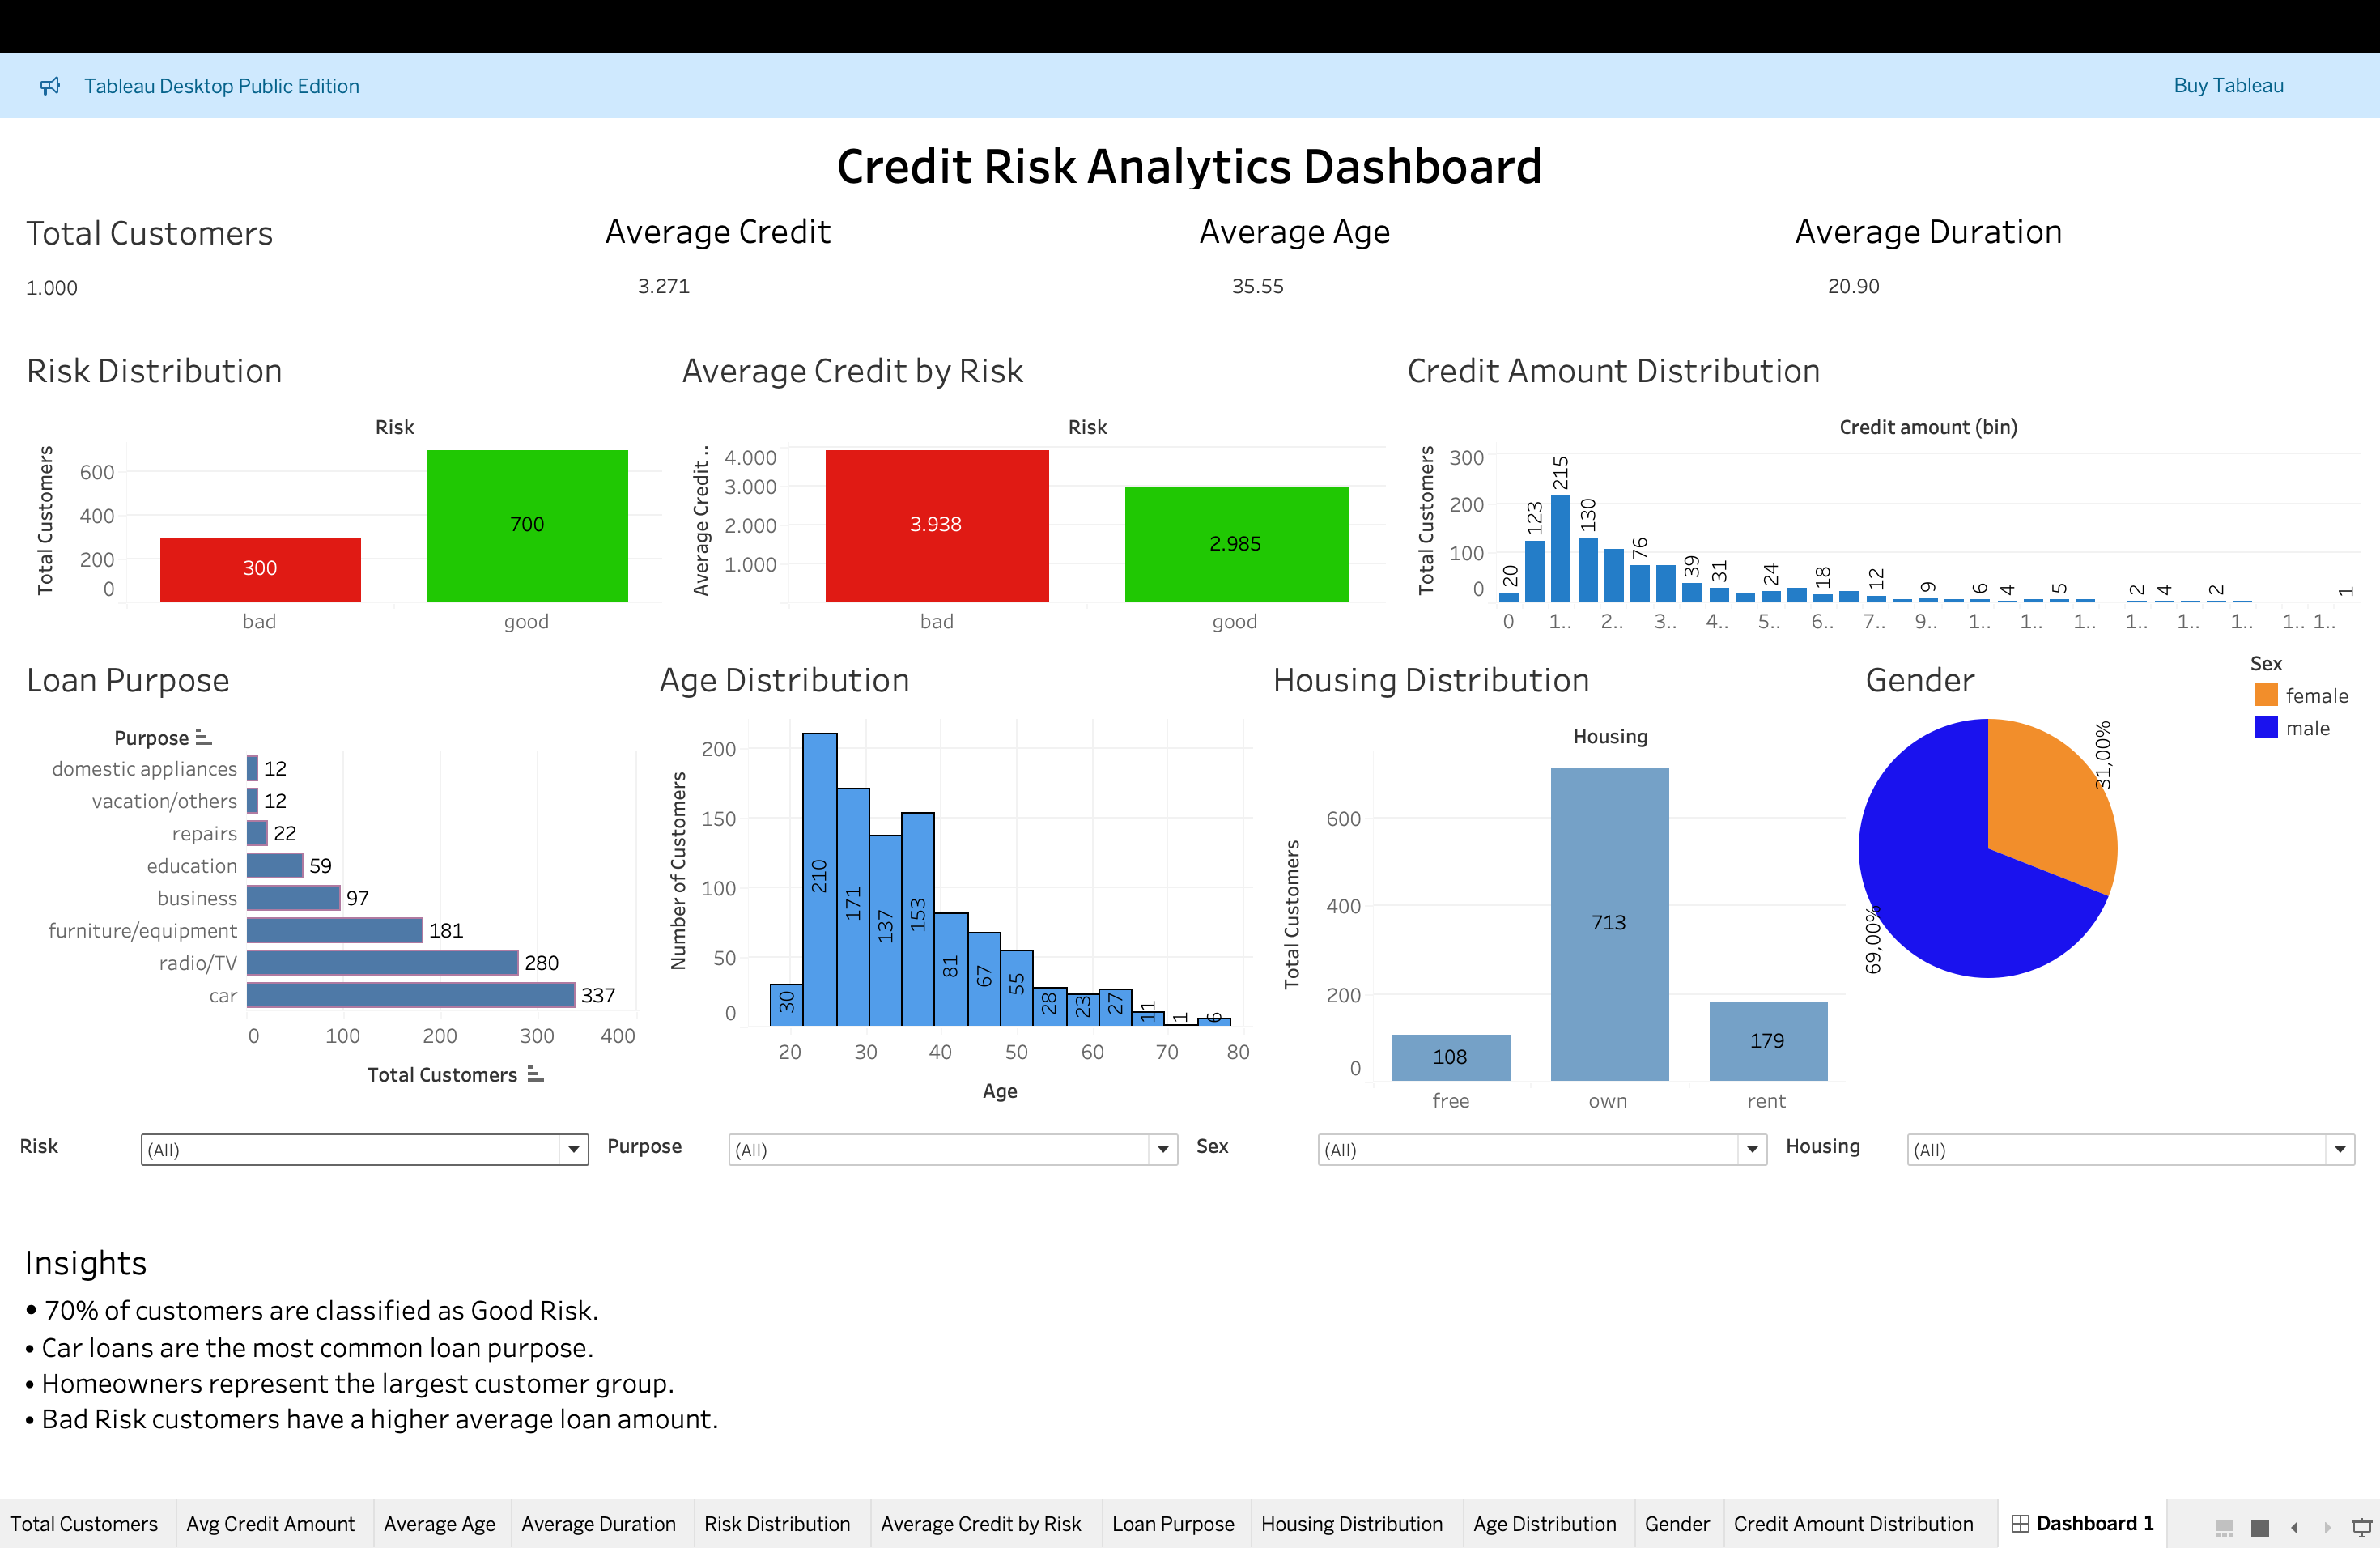

What the dashboard file says about the page in this screenshot:
{"tool":"tableau","page":{"name":"Dashboard 1","canvas":[1000,1000],"units":"permille","ordinal":0},"visuals":[{"type":"text","box":[6.4,10.1,987.3,44.9]},{"type":"text","box":[6.4,55,228.9,34.1]},{"type":"text","box":[235.2,55,243.2,34.1]},{"type":"text","box":[478.5,55,240.9,34.1]},{"type":"text","box":[719.4,55,274.3,34.1]},{"type":"worksheet","title":"Average Age","mark":"Automatic","box":[235.2,89,243.2,65.2]},{"type":"worksheet","title":"Avg Credit Amount","mark":"Automatic","box":[478.5,89,240.9,65.2]},{"type":"worksheet","title":"Average Duration","mark":"Automatic","box":[719.4,89,274.3,65.2]},{"type":"worksheet","title":"Total Customers","mark":"Automatic","box":[6.4,89.1,228.9,65.1]},{"type":"worksheet","title":"Risk Distribution","mark":"Automatic","rows":["Calculation_0240546996387840"],"cols":["Risk"],"box":[6.4,154.2,228.9,269.3]},{"type":"worksheet","title":"Average Credit by Risk","mark":"Automatic","rows":["Credit amount"],"cols":["Risk"],"box":[235.2,154.2,264.7,269.3]},{"type":"worksheet","title":"Credit Amount Distribution","mark":"Automatic","rows":["Calculation_0240546996387840"],"cols":["Credit amount (bin)"],"box":[500,154.2,493.7,269.3]},{"type":"worksheet","title":"Loan Purpose","mark":"Automatic","rows":["Purpose"],"cols":["Calculation_0240546996387840"],"box":[6.4,423.5,258.3,334.4]},{"type":"worksheet","title":"Age Distribution","mark":"Automatic","rows":["Age"],"cols":["Age (bin)"],"box":[264.7,423.5,267.9,334.4]},{"type":"worksheet","title":"Housing Distribution","mark":"Automatic","rows":["Calculation_0240546996387840"],"cols":["Housing"],"box":[532.5,423.5,236.1,334.4]},{"type":"worksheet","title":"Gender","mark":"Pie","box":[768.6,423.5,159.8,334.4]},{"type":"legend","title":"Gender","param":"[federated.1weon1k0p2nv7c1cxjsd107q0vsg].[none:Sex:nk]","box":[928.4,423.5,65.2,83.4]},{"type":"filter","title":"Credit Amount Distribution","param":"[federated.1weon1k0p2nv7c1cxjsd107q0vsg].[none:Housing:nk]","box":[6.4,757.9,228.9,80.2]},{"type":"filter","title":"Credit Amount Distribution","param":"[federated.1weon1k0p2nv7c1cxjsd107q0vsg].[none:Sex:nk]","box":[235.2,757.9,264.7,80.2]},{"type":"filter","title":"Average Credit by Risk","param":"[federated.1weon1k0p2nv7c1cxjsd107q0vsg].[none:Purpose:nk]","box":[500,757.9,223.3,80.2]},{"type":"filter","title":"Risk Distribution","param":"[federated.1weon1k0p2nv7c1cxjsd107q0vsg].[none:Risk:nk]","box":[723.3,757.9,270.3,80.2]},{"type":"text","box":[6.4,838.1,987.3,151.8]}]}

Visuals, with their boxes on the dashboard's canvas, which has no fixed pixel size, in thousandths of its width and height (x1, y1, x2, y2). These are canvas units, not pixel positions in the 2380x1548 screenshot, which may show the page scaled, cropped or inside an application window:
text: [6,10,994,55]
text: [6,55,235,89]
text: [235,55,478,89]
text: [478,55,719,89]
text: [719,55,994,89]
"Average Age" worksheet: [235,89,478,154]
"Avg Credit Amount" worksheet: [478,89,719,154]
"Average Duration" worksheet: [719,89,994,154]
"Total Customers" worksheet: [6,89,235,154]
"Risk Distribution" worksheet: [6,154,235,424]
"Average Credit by Risk" worksheet: [235,154,500,424]
"Credit Amount Distribution" worksheet: [500,154,994,424]
"Loan Purpose" worksheet: [6,424,265,758]
"Age Distribution" worksheet: [265,424,533,758]
"Housing Distribution" worksheet: [532,424,769,758]
"Gender" worksheet (Pie marks): [769,424,928,758]
"Gender" legend: [928,424,994,507]
"Credit Amount Distribution" filter: [6,758,235,838]
"Credit Amount Distribution" filter: [235,758,500,838]
"Average Credit by Risk" filter: [500,758,723,838]
"Risk Distribution" filter: [723,758,994,838]
text: [6,838,994,990]
